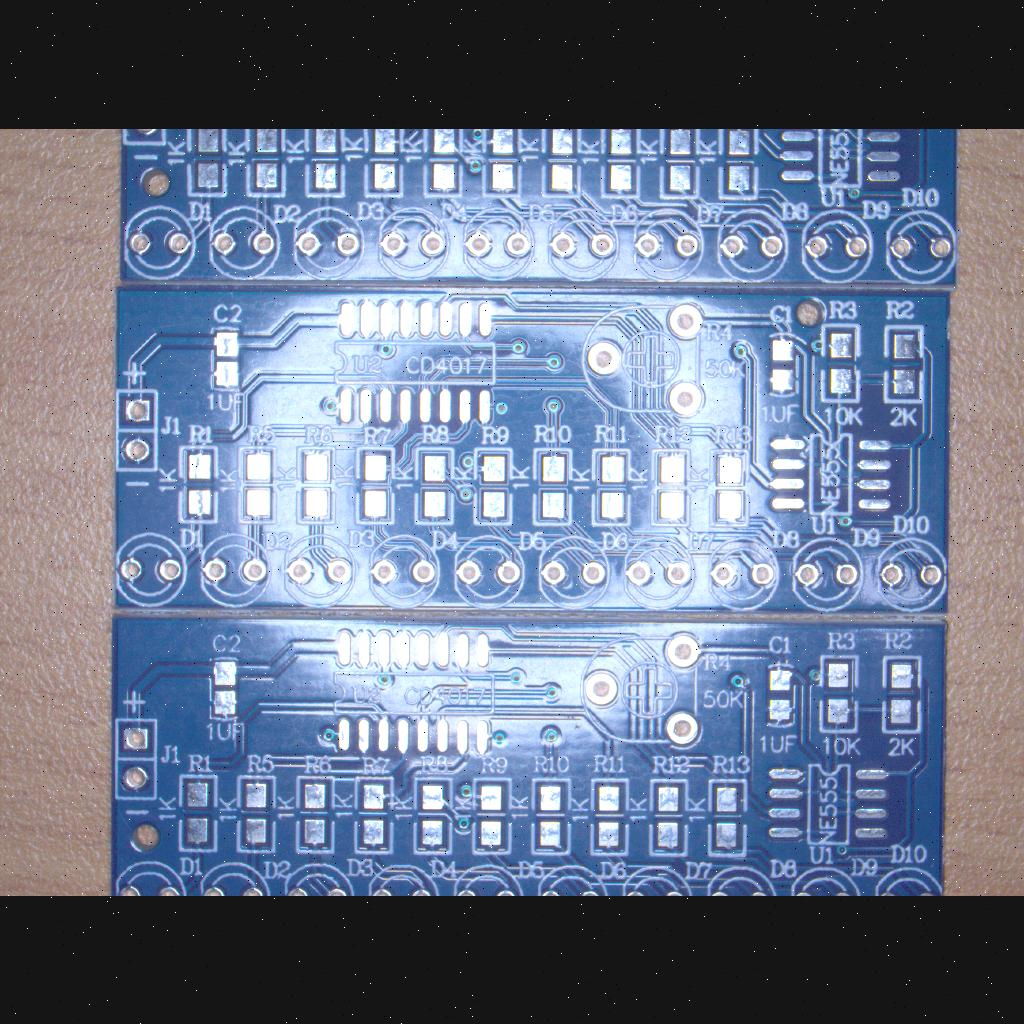NG: (328, 624, 508, 762), (320, 298, 508, 424), (758, 754, 900, 852), (763, 424, 895, 526), (774, 128, 912, 192), (291, 768, 339, 862), (644, 773, 694, 863), (879, 319, 931, 405), (347, 768, 397, 856), (468, 442, 516, 532), (526, 772, 574, 862), (174, 440, 222, 528), (878, 649, 926, 737), (702, 774, 750, 862), (817, 320, 867, 404), (816, 648, 862, 738), (294, 437, 338, 531), (584, 774, 632, 860), (236, 437, 280, 529), (410, 770, 456, 858), (470, 770, 516, 858), (590, 444, 634, 534), (174, 769, 220, 855), (532, 444, 576, 530), (647, 442, 691, 528), (236, 768, 280, 854), (355, 441, 397, 529), (410, 442, 454, 526), (708, 442, 750, 528), (594, 128, 642, 200), (716, 128, 764, 200), (183, 128, 233, 196), (360, 128, 410, 196), (758, 656, 802, 732), (654, 128, 702, 194), (244, 128, 290, 194), (206, 649, 242, 731), (303, 128, 349, 192), (540, 128, 580, 200), (762, 330, 802, 400), (423, 128, 465, 192), (482, 128, 522, 194), (210, 325, 246, 393)
